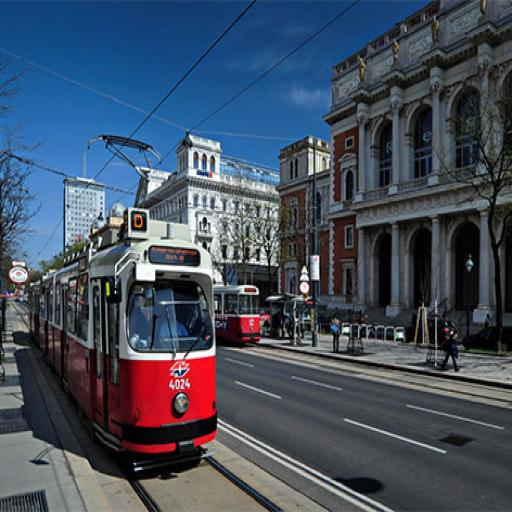E2-Tram: (28, 207, 225, 476)
